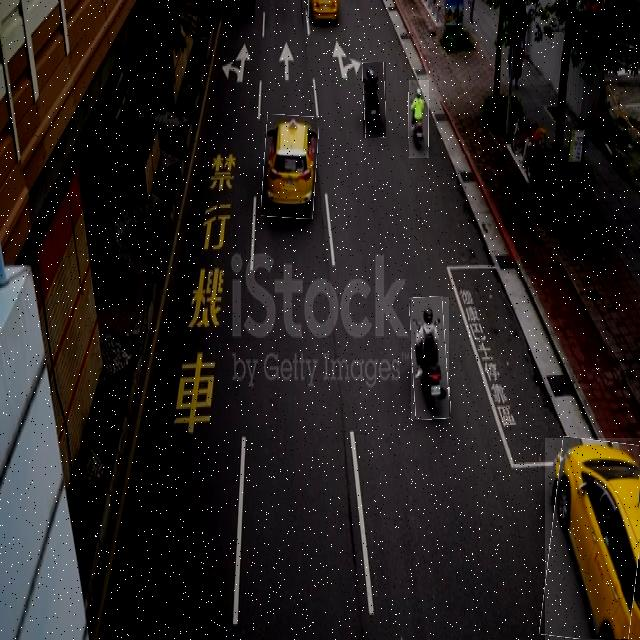Car: (545, 438, 640, 640), (263, 116, 318, 218), (308, 0, 341, 34)
Motorcycle: (412, 297, 449, 419), (363, 62, 386, 138), (409, 80, 429, 158)
